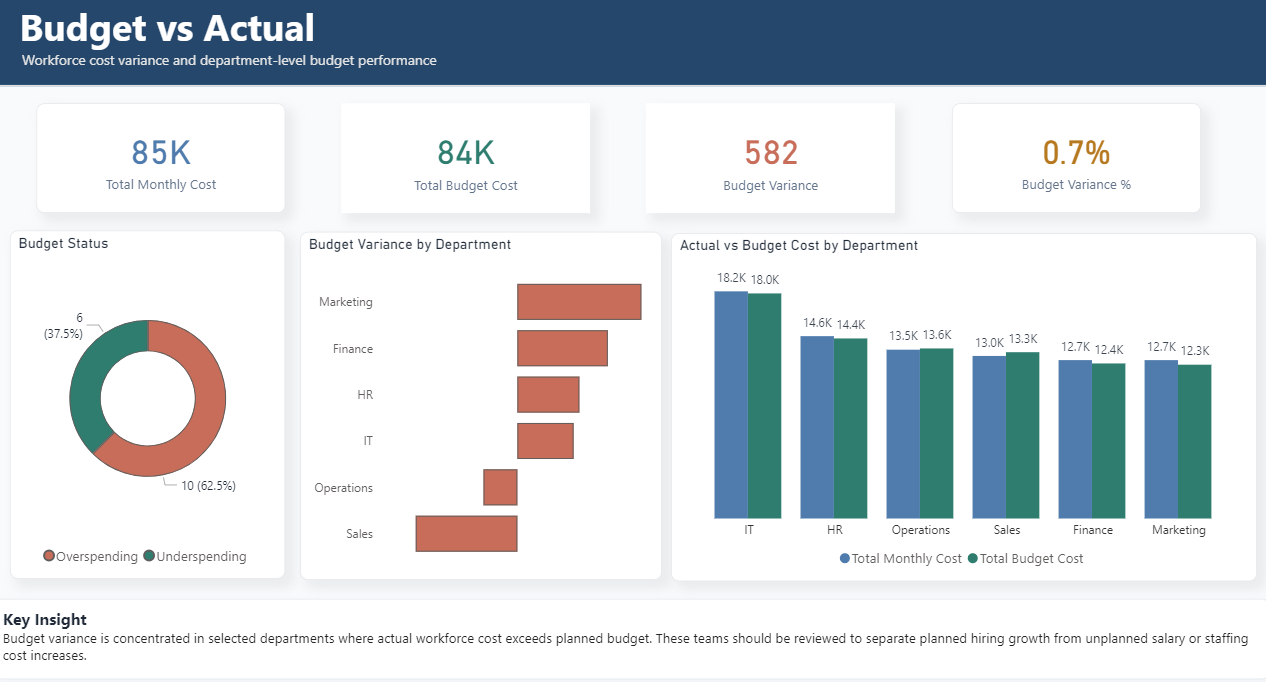

This screenshot's page, from the dashboard's own definition file:
{"tool":"powerbi","page":{"name":"Page 3: Budget vs Actual ","canvas":[1280,720],"ordinal":2},"visuals":[{"type":"card","fields":{"Values":["cleaned_master_data.Total Monthly Cost"]},"box":[42.5,119.7,250,110],"z":0,"group":"g1"},{"type":"clusteredBarChart","title":"Budget Variance by Department","fields":{"Category":["cleaned_master_data.department"],"Y":["cleaned_master_data.Budget Variance"]},"box":[307.1,248.6,362.9,349.6],"z":0},{"type":"card","fields":{"Values":["cleaned_master_data.Total Budget Cost"]},"box":[348.6,119.7,250,110],"z":1000,"group":"g1"},{"type":"clusteredColumnChart","title":"Actual vs Budget Cost by Department","fields":{"Category":["cleaned_master_data.department"],"Y":["cleaned_master_data.Total Monthly Cost","cleaned_master_data.Total Budget Cost"]},"box":[679.3,249.9,587.6,349.6],"z":1000},{"type":"card","fields":{"Values":["cleaned_master_data.Budget Variance"]},"box":[654.7,119.7,250,110],"z":2000,"group":"g1"},{"type":"textbox","box":[0,12,1280.3,90.4],"z":3000},{"type":"card","fields":{"Values":["cleaned_master_data.Budget Variance %"]},"box":[960.8,119.7,250,110],"z":3000,"group":"g1"},{"type":"group","id":"g1","title":"Group 1","box":[42.5,119.7,1168.6,109],"z":4000},{"type":"donutChart","title":"Budget Status","fields":{"Category":["cleaned_master_data.Budget Status"],"Y":["CountNonNull(cleaned_master_data.employee_id)"]},"box":[16,247.3,276.5,349.6],"z":4001},{"type":"textbox","box":[0,616.9,1280.3,81.1],"z":4003}]}

Visuals, with their boxes on the page's 1280x720 design canvas (x1, y1, x2, y2). These are canvas units, not pixel positions in the 1266x682 screenshot, which may show the page scaled, cropped or inside an application window:
card - cleaned_master_data.Total Monthly Cost: [x1=42, y1=120, x2=292, y2=230]
"Budget Variance by Department" clusteredBarChart: [x1=307, y1=249, x2=670, y2=598]
card - cleaned_master_data.Total Budget Cost: [x1=349, y1=120, x2=599, y2=230]
"Actual vs Budget Cost by Department" clusteredColumnChart: [x1=679, y1=250, x2=1267, y2=600]
card - cleaned_master_data.Budget Variance: [x1=655, y1=120, x2=905, y2=230]
textbox: [x1=0, y1=12, x2=1280, y2=102]
card - cleaned_master_data.Budget Variance %: [x1=961, y1=120, x2=1211, y2=230]
"Group 1" group: [x1=42, y1=120, x2=1211, y2=229]
"Budget Status" donutChart: [x1=16, y1=247, x2=292, y2=597]
textbox: [x1=0, y1=617, x2=1280, y2=698]
